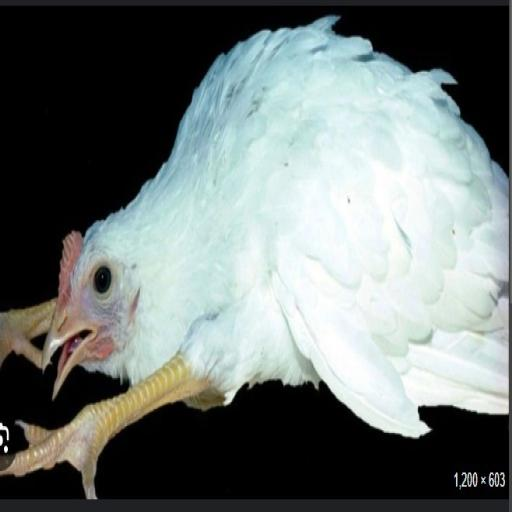healthy: (51, 219, 151, 395)
